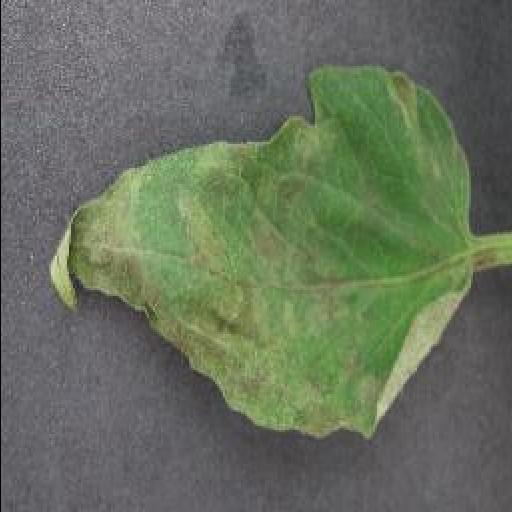disease_tomato: (47, 58, 477, 436)
